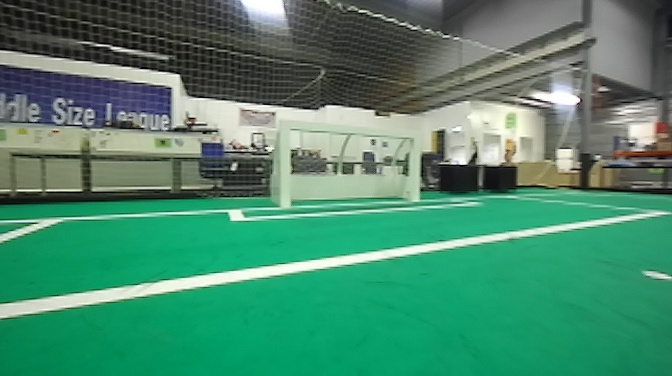goalpost: (271, 115, 294, 208), (404, 111, 424, 208)
